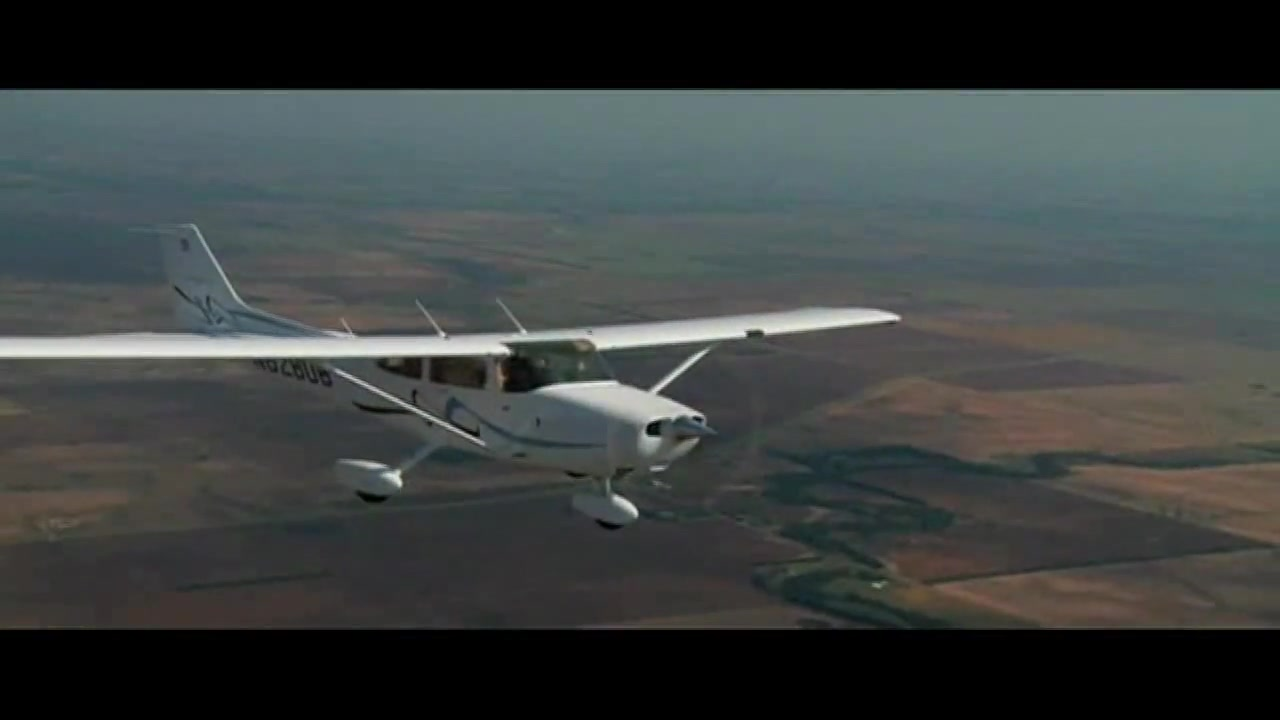aeroplane: (1, 223, 902, 532)
